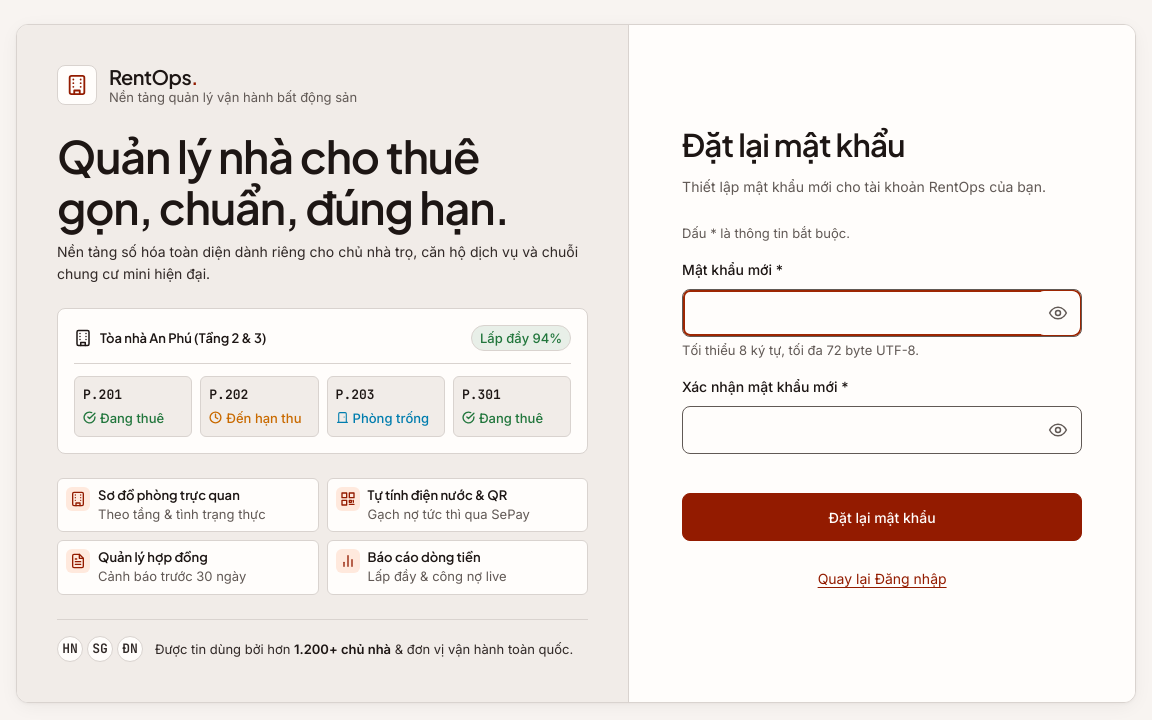
Scenario: UC06 integrated screens › ignores an unmounted submission and handles Back/Forward without recovering a saved token
Type " newPassword123 " into the password field labelled "Mật khẩu mới *" at point(882, 313), box top-left (682, 289), bottom-right (1082, 337)
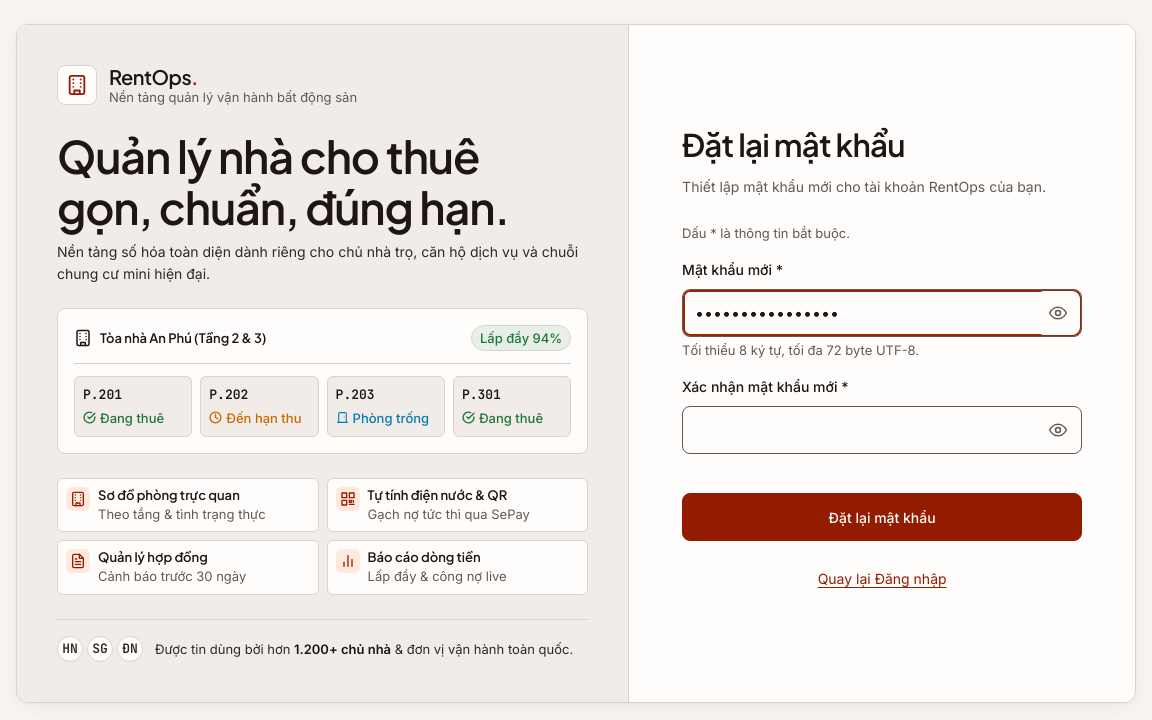
Type " newPassword123 " into the password field labelled "Xác nhận mật khẩu mới *" at point(882, 430), box top-left (682, 406), bottom-right (1082, 454)
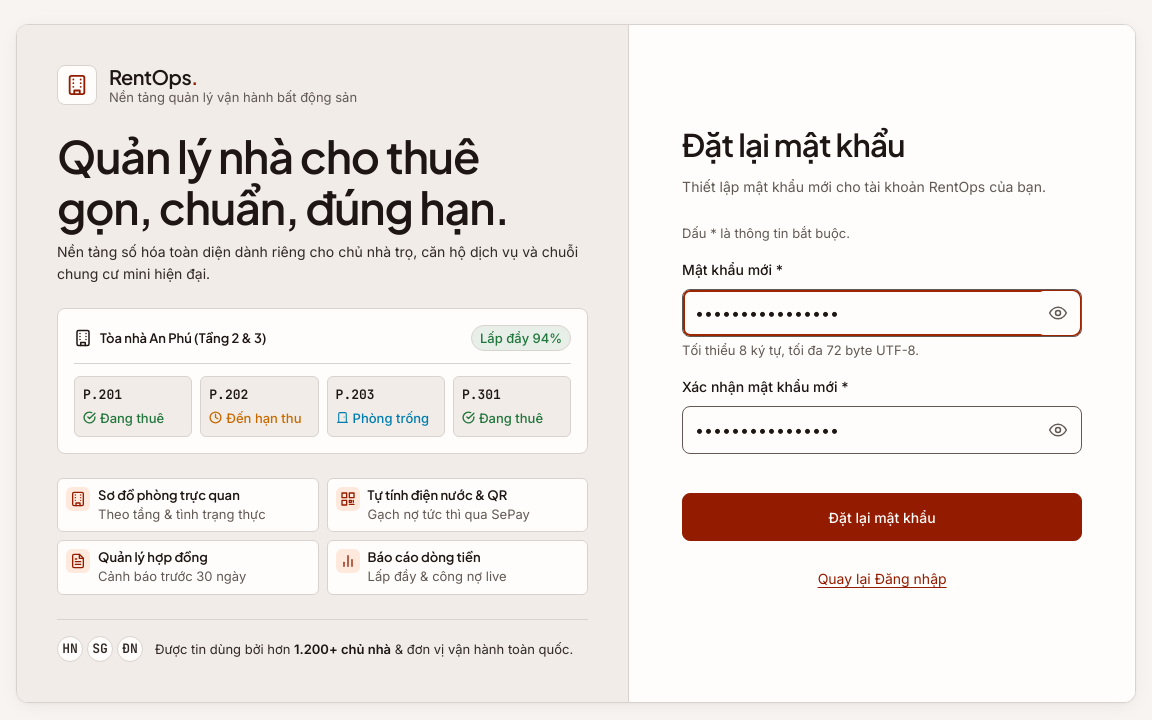
Submit the form with class "recovery-form", box top-left (682, 223), bottom-right (1082, 541)
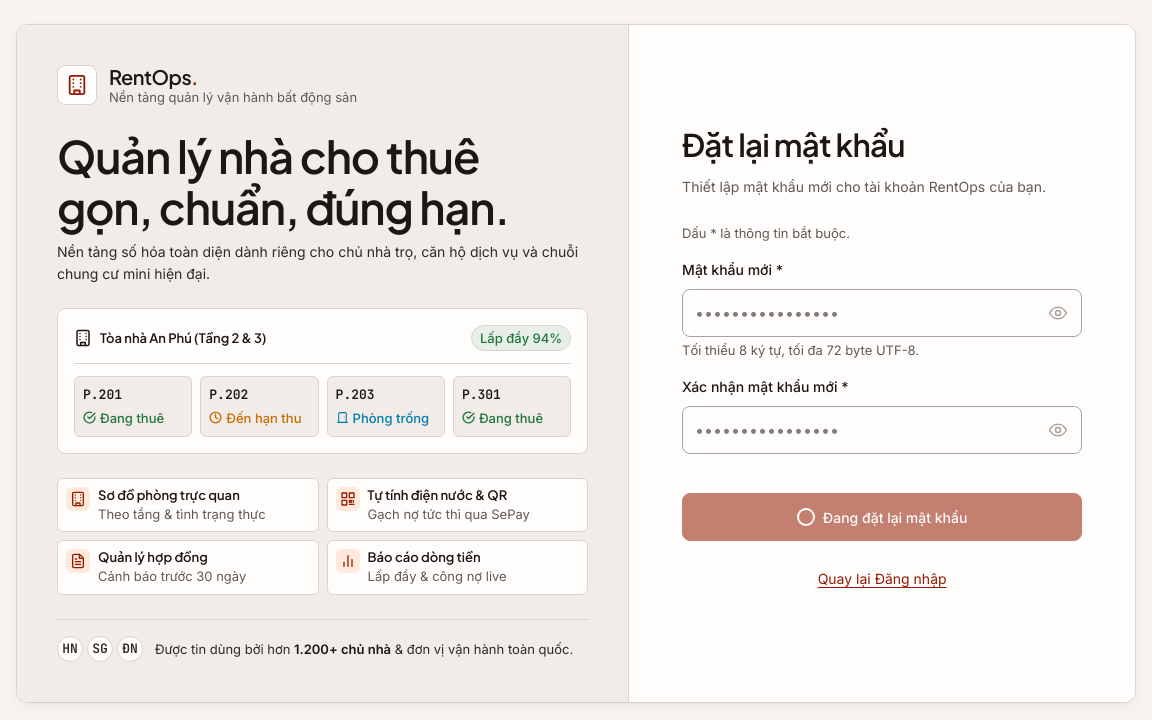
Click the link "Quay lại Đăng nhập" at point(882, 579), box top-left (818, 570), bottom-right (947, 587)
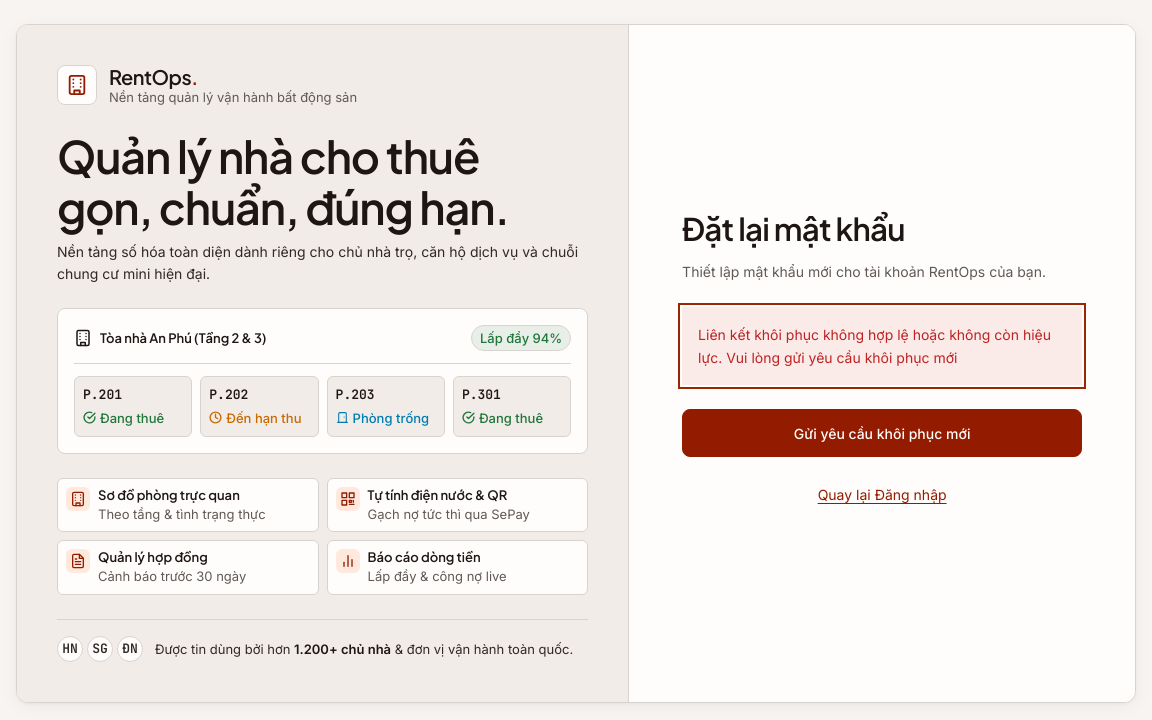
Expected: the field labelled "Mật khẩu mới *" is not shown
Expected: the text "Liên kết khôi phục không hợp lệ hoặc không còn hiệu lực. Vui lòng gửi yêu cầu khôi phục mới" is shown, top-left (698, 326), bottom-right (1051, 366)
